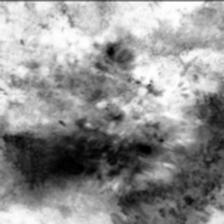Potentially Malignant Skin Tumors: (54, 134, 144, 186)
